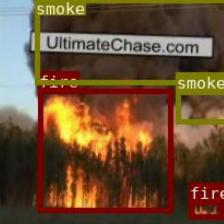fire: (37, 88, 173, 212), (188, 199, 222, 218)
smoke: (34, 0, 224, 83), (175, 89, 224, 123)
